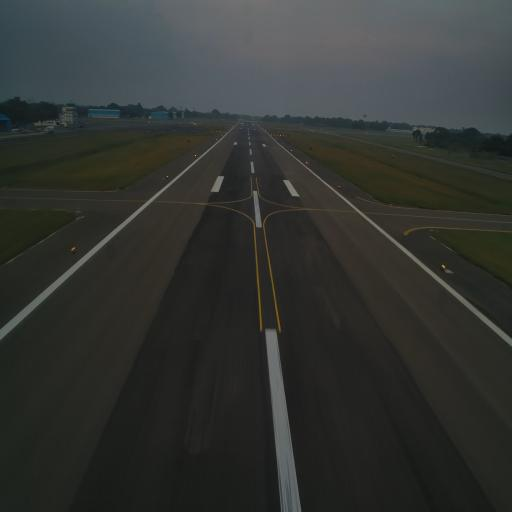on: (70, 245, 76, 255), (440, 261, 446, 270), (164, 172, 170, 179), (337, 183, 341, 190)
